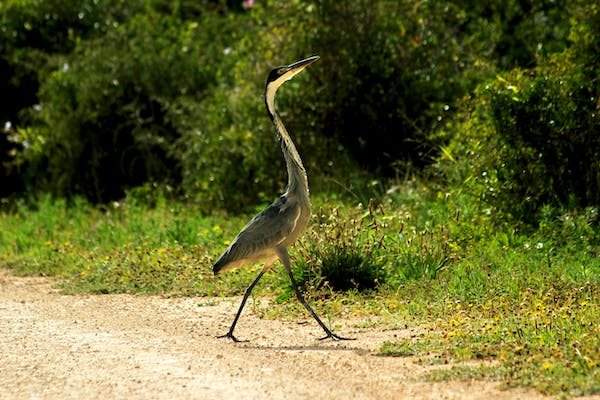Walking: (202, 26, 371, 379)
